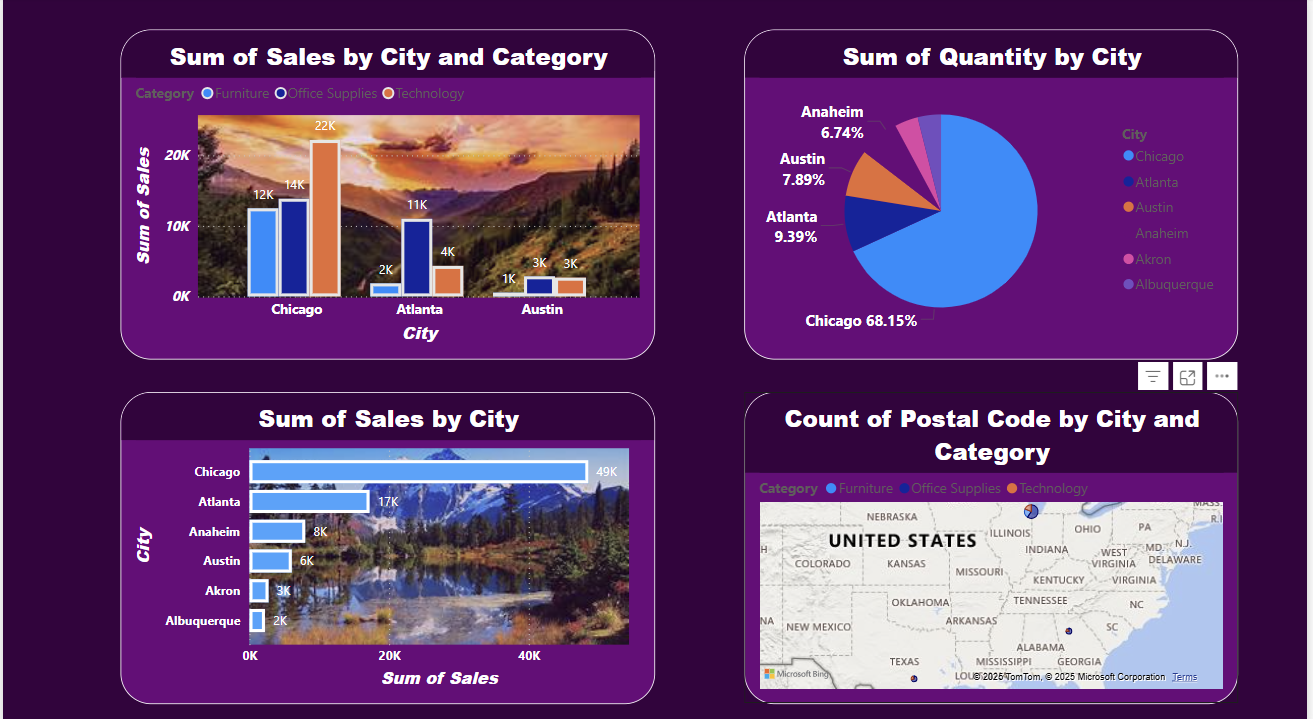

Layout of this report page (visuals, bound fields, positions):
{"tool":"tableau","page":{"name":"Dashboard 1","canvas":[1000,1000],"units":"permille","ordinal":0},"visuals":[{"type":"legend","title":"Sheet 1","param":"[federated.1kve8421hmq0o80zvcvow0iqye28].[none:pseason:nk]","box":[898.6,10,96.6,168.5]},{"type":"worksheet","title":"Sheet 1","mark":"Automatic","rows":["pyear"],"cols":["region"],"box":[419.4,33.7,446.6,383.3]},{"type":"worksheet","title":"Sheet 2","mark":"Automatic","box":[19.9,41.2,432.1,333.3]},{"type":"legend","title":"Sheet 2","param":"[federated.1kve8421hmq0o80zvcvow0iqye28].[sum:trekyear:qk]","box":[898.6,178.5,96.6,91.1]},{"type":"legend","title":"Sheet 3","param":"[federated.1kve8421hmq0o80zvcvow0iqye28].[none:region:nk]","box":[898.6,269.7,96.6,221]},{"type":"worksheet","title":"Sheet 4","mark":"Automatic","box":[16.9,434.5,433.9,484.4]},{"type":"worksheet","title":"Sheet 3","mark":"Automatic","rows":["heightf"],"cols":["pseason","region"],"box":[465.3,448.2,413.4,504.4]},{"type":"filter","title":"Sheet 4","param":"[federated.1kve8421hmq0o80zvcvow0iqye28].[none:pseason:nk]","box":[898.6,490.7,96.6,217.2]},{"type":"legend","title":"Sheet 4","param":"[federated.1kve8421hmq0o80zvcvow0iqye28].[sum:pyear:qk]","box":[898.6,707.9,96.6,91.1]}]}

Visuals, with their boxes on the dashboard's canvas, which has no fixed pixel size, in thousandths of its width and height (x1, y1, x2, y2). These are canvas units, not pixel positions in the 1313x719 screenshot, which may show the page scaled, cropped or inside an application window:
"Sheet 1" legend: box=[899, 10, 995, 178]
"Sheet 1" worksheet: box=[419, 34, 866, 417]
"Sheet 2" worksheet: box=[20, 41, 452, 374]
"Sheet 2" legend: box=[899, 178, 995, 270]
"Sheet 3" legend: box=[899, 270, 995, 491]
"Sheet 4" worksheet: box=[17, 434, 451, 919]
"Sheet 3" worksheet: box=[465, 448, 879, 953]
"Sheet 4" filter: box=[899, 491, 995, 708]
"Sheet 4" legend: box=[899, 708, 995, 799]
